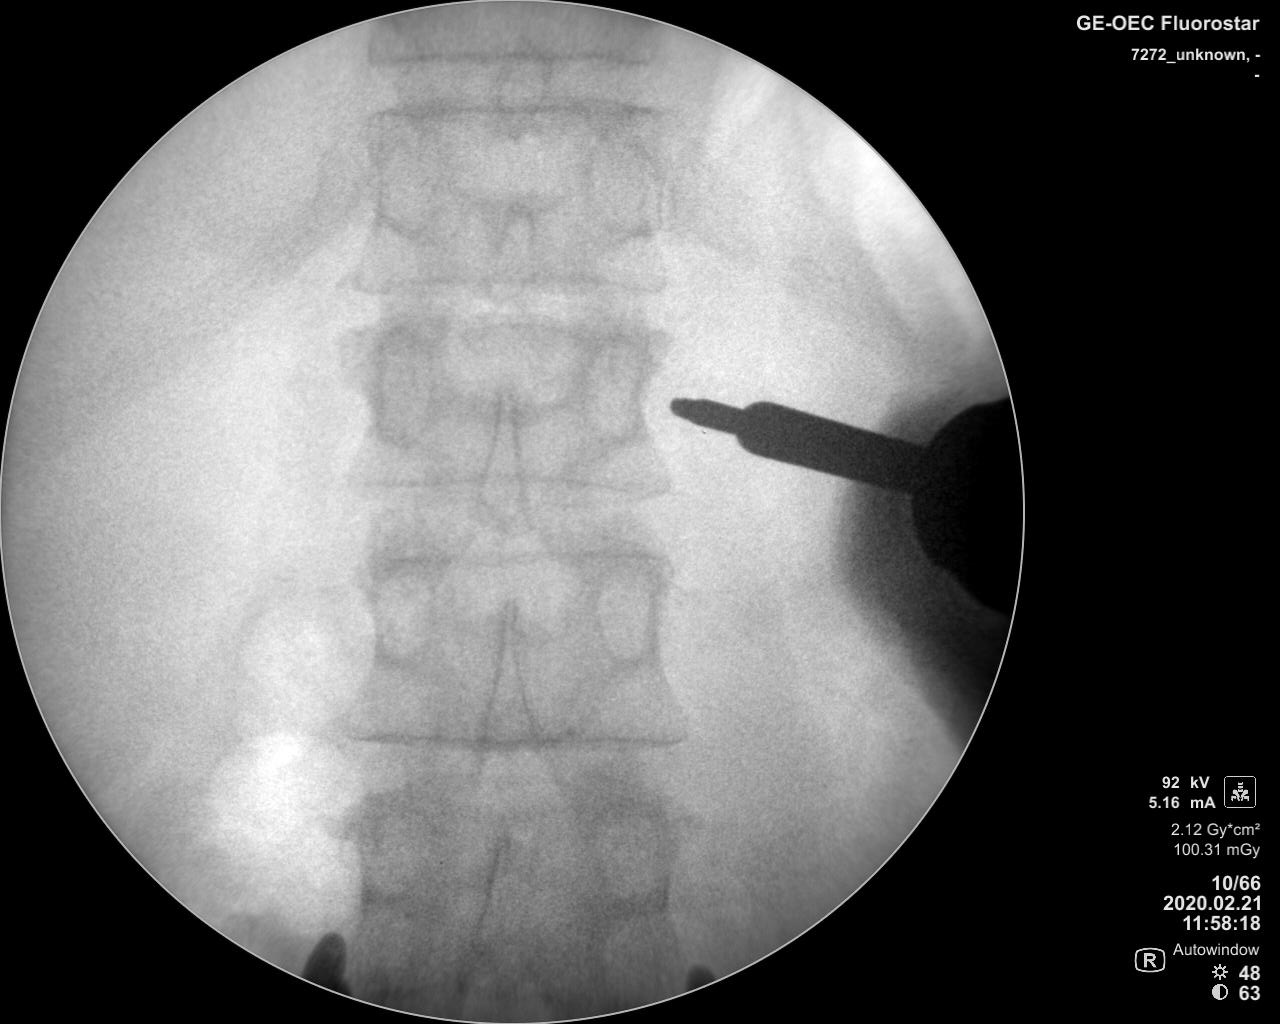eyes: (348, 799, 436, 913), (578, 125, 662, 241), (362, 115, 443, 234), (362, 328, 439, 451), (573, 326, 648, 443), (359, 560, 437, 662), (589, 802, 673, 897), (594, 560, 664, 670)
line: (329, 466, 676, 513), (324, 718, 688, 755), (330, 260, 676, 297), (335, 539, 678, 573), (358, 40, 670, 76), (352, 96, 681, 127)
nose: (476, 594, 543, 774), (473, 376, 532, 522), (485, 19, 546, 145), (467, 828, 522, 963), (484, 191, 537, 315)
